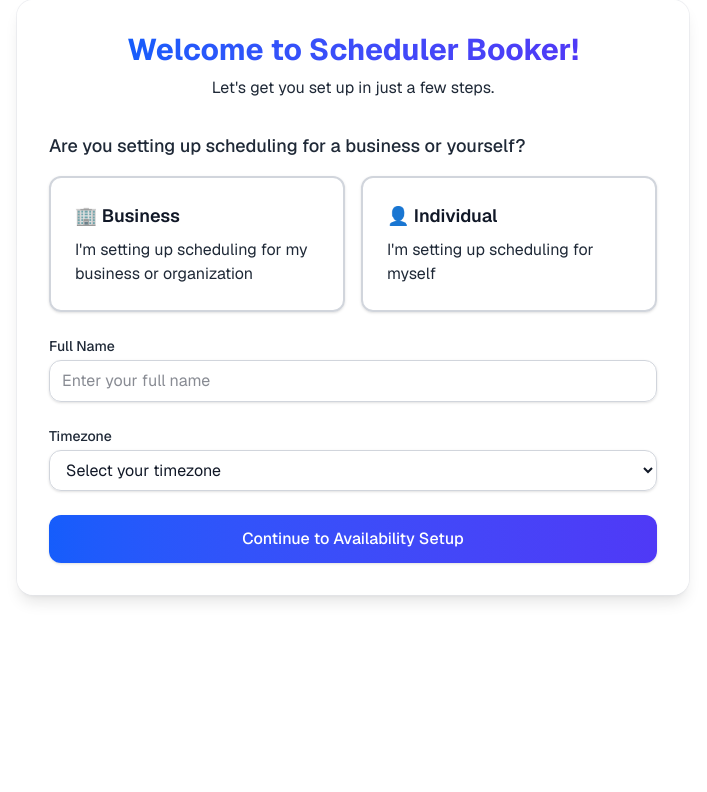
Test: OnboardingForm › completes step 1 with valid data
# Select business type
Click the button "🏢 Business".
click(197, 244)  # box [49, 176, 345, 312]
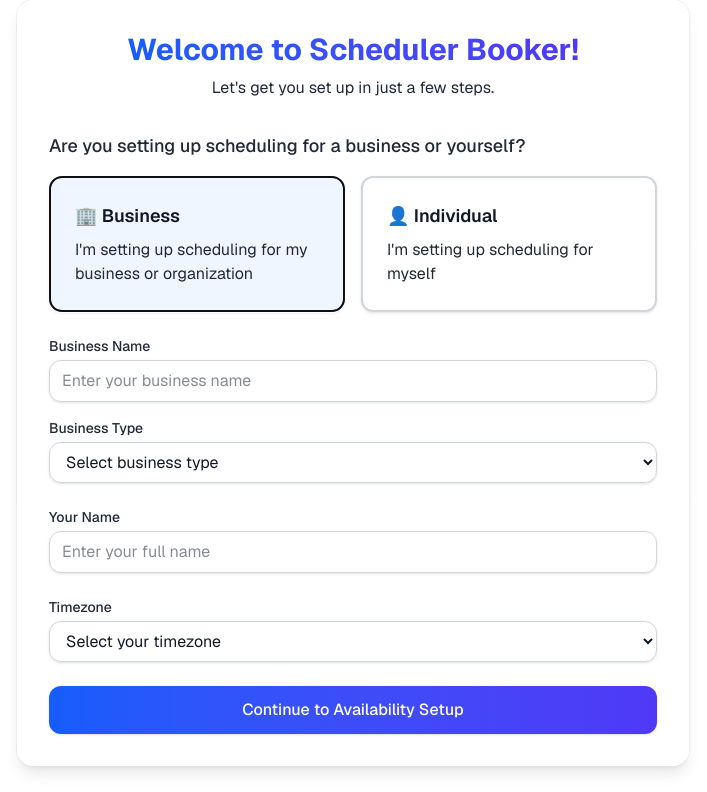
Type "Test Business" into the field labelled "Business Name".
click(353, 381); type("Test Business")  # box [49, 360, 657, 402]
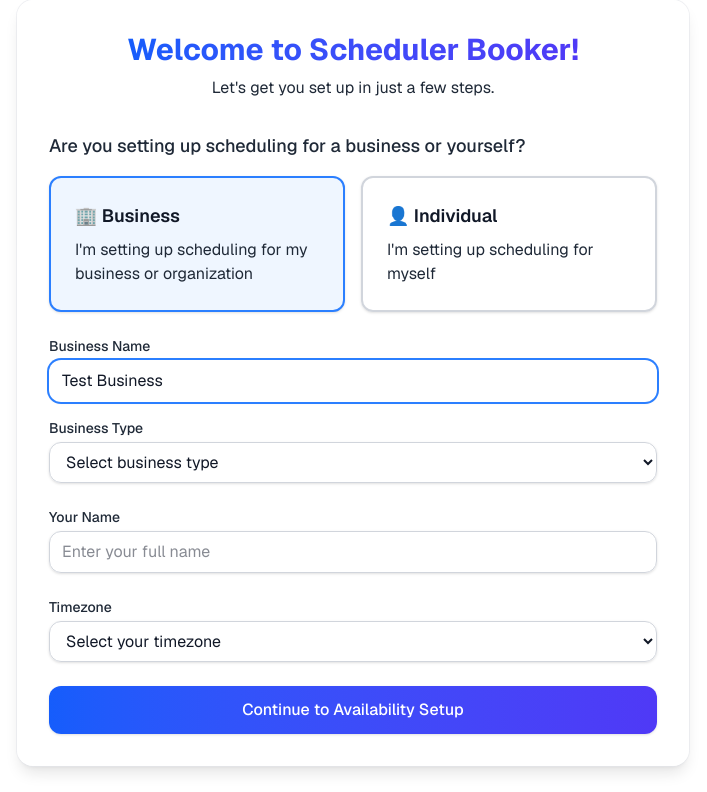
Select "Consulting" in the dropdown labelled "Business Type" at point(353, 462), box [49, 442, 657, 483]
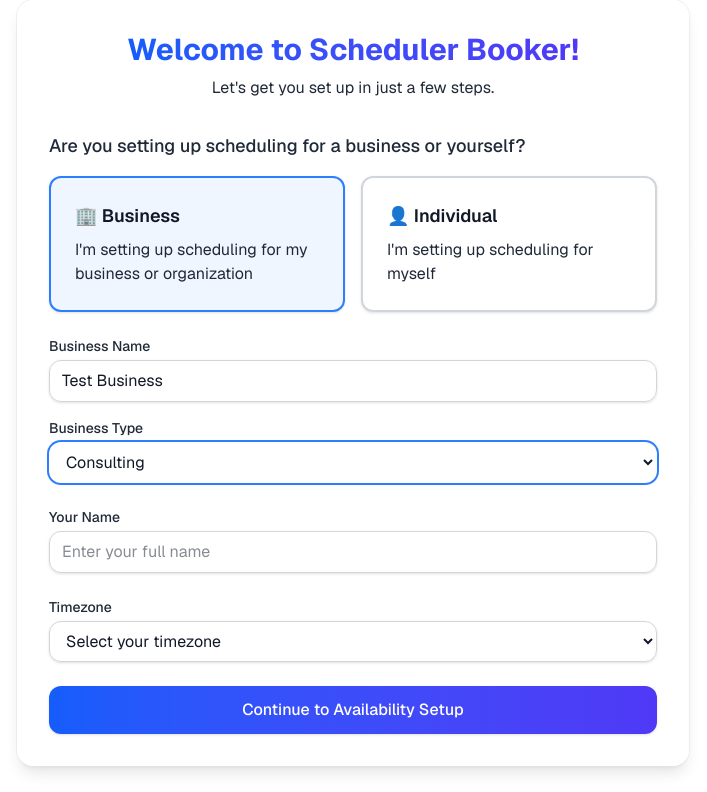
Type "Test User" into the field labelled "Your Name".
click(353, 552); type("Test User")  # box [49, 531, 657, 573]
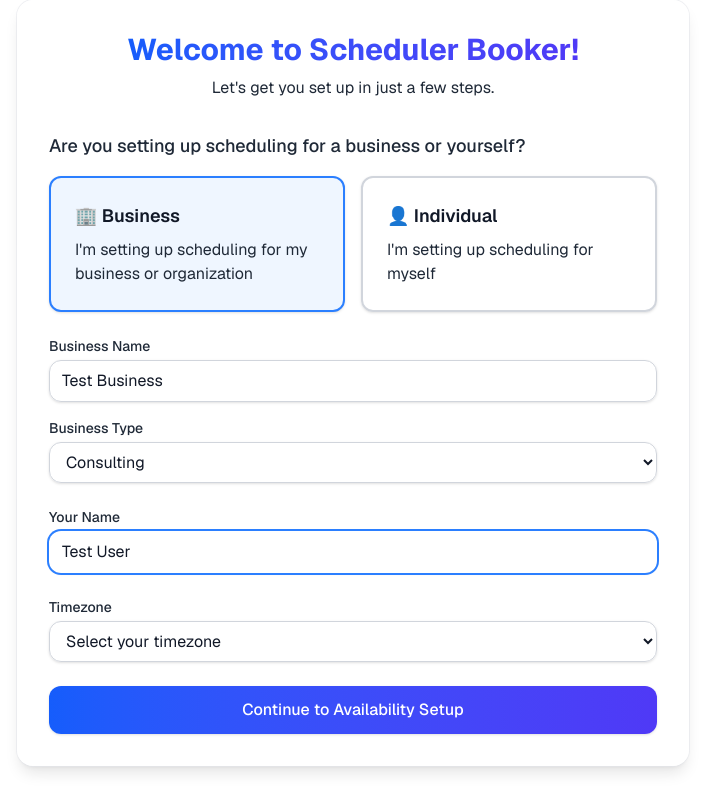
Select "America/New York" in the dropdown labelled "Timezone" at point(353, 642), box [49, 621, 657, 662]
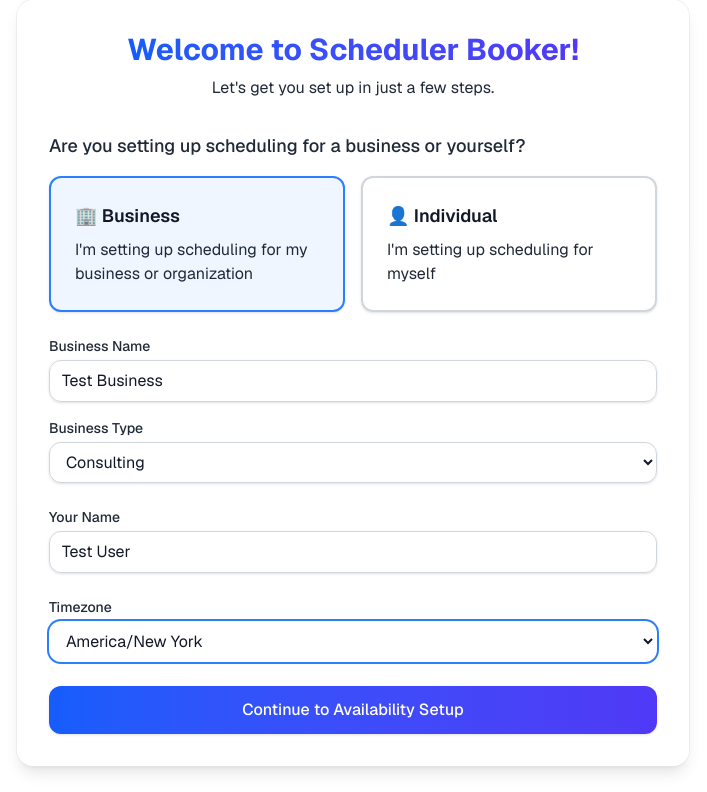
Click the button "Continue to Availability Setup".
click(353, 710)  # box [49, 686, 657, 734]
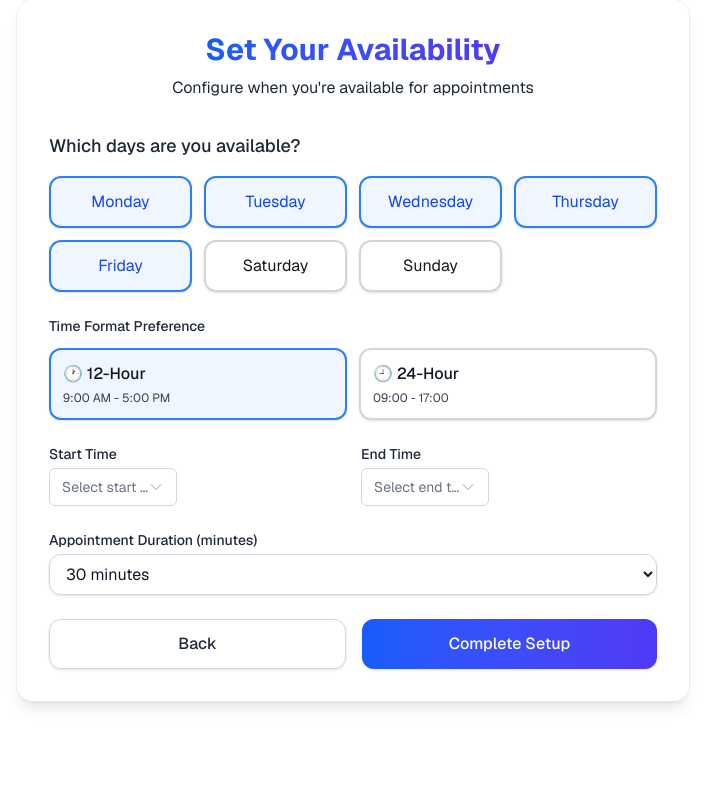
Expected: the text "Set Your Availability" is shown, [205, 30, 501, 69]
